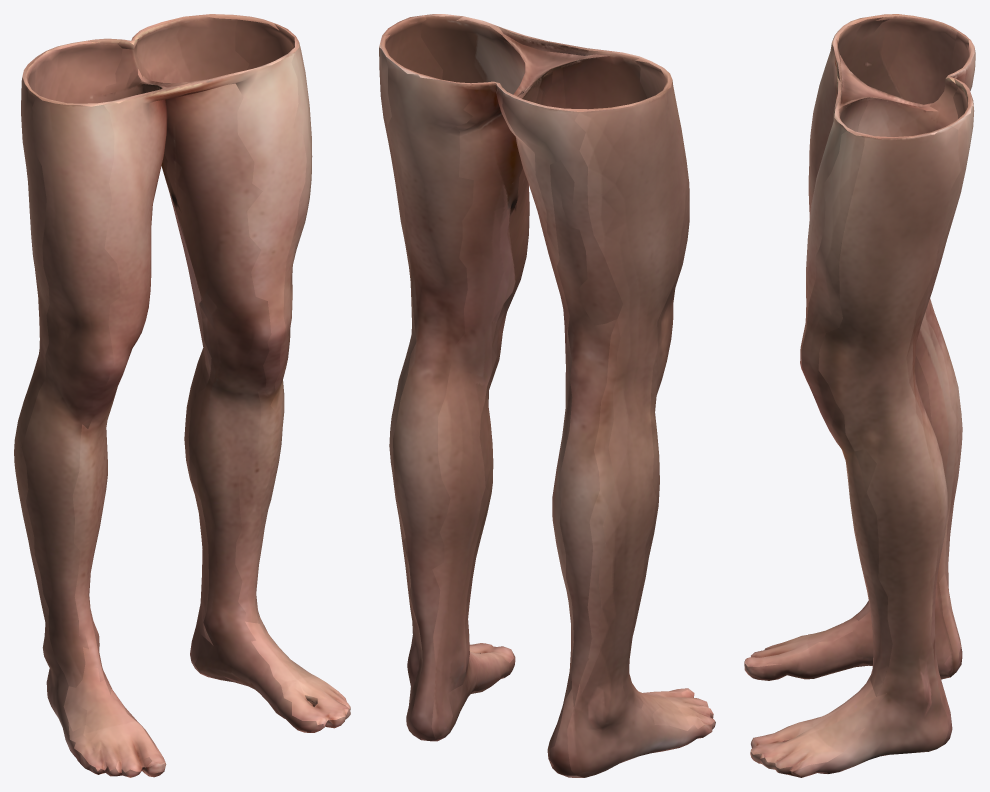
Rendered from charge_legs.glb.
3 views of the same model, side by side, from view 1: azimuth 30°, elevation 25°; view 2: azimuth 150°, elevation 25°; view 3: azimuth 270°, elevation 25° (orthographic). The views are drawn at different scales.
Parts seen in each view (by area): view 1: geometry_0; view 2: geometry_0; view 3: geometry_0.
Boxes of the visible parts, box(x1,y1,x2,y2) form: geometry_0: box(14, 14, 350, 777); geometry_0: box(379, 14, 715, 777); geometry_0: box(744, 14, 975, 777).
Size of the model in its own units: 0.9 by 2.05 by 0.6737.
1 material, 1 textured.
